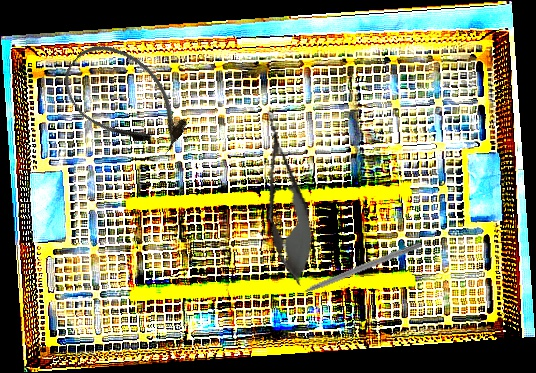Cannula: (50, 29, 202, 171)
Hook Surgical: (288, 239, 423, 301)
Micro Scissor: (247, 104, 323, 290)
